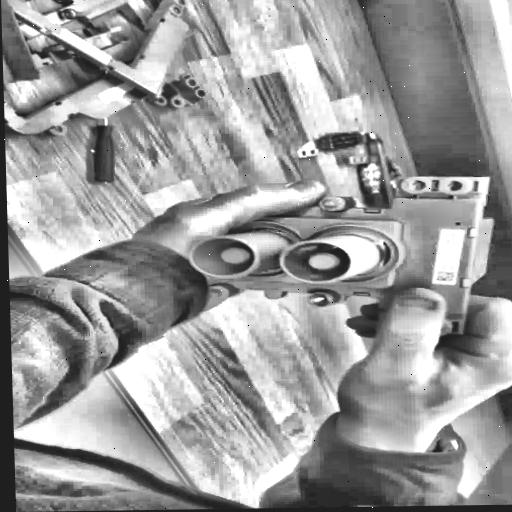connector: (168, 164, 511, 355)
